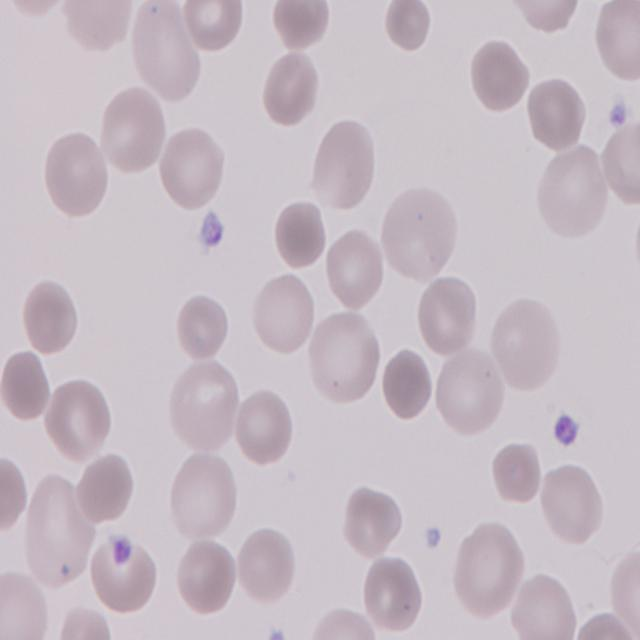Platelets: (550, 411, 578, 451)
RBC: (377, 184, 460, 283), (22, 477, 96, 588), (126, 2, 200, 108), (449, 520, 524, 624), (488, 294, 564, 393), (308, 311, 385, 408), (538, 141, 613, 240), (165, 358, 242, 453), (433, 342, 510, 436), (308, 115, 378, 212), (170, 447, 240, 542), (100, 84, 168, 178), (45, 130, 113, 220), (158, 122, 225, 210), (91, 532, 161, 616), (46, 379, 113, 464), (538, 461, 604, 546), (416, 274, 482, 358), (254, 270, 318, 356), (174, 534, 240, 616), (326, 224, 387, 310), (233, 387, 294, 468), (19, 278, 82, 356), (236, 526, 298, 605), (259, 46, 321, 124), (469, 38, 531, 115), (342, 483, 402, 561), (359, 557, 422, 631), (75, 449, 136, 525), (511, 572, 578, 640), (525, 78, 587, 151), (62, 0, 137, 56), (2, 344, 52, 423), (176, 290, 232, 360), (0, 568, 54, 640), (181, 0, 248, 56), (601, 114, 640, 210), (594, 0, 640, 81), (490, 441, 544, 508), (270, 0, 334, 53), (508, 0, 586, 36), (608, 542, 640, 629), (381, 0, 432, 54), (0, 452, 27, 540), (309, 609, 379, 640), (54, 605, 115, 640)
Spherocyte: (272, 195, 330, 270), (381, 349, 435, 422)
